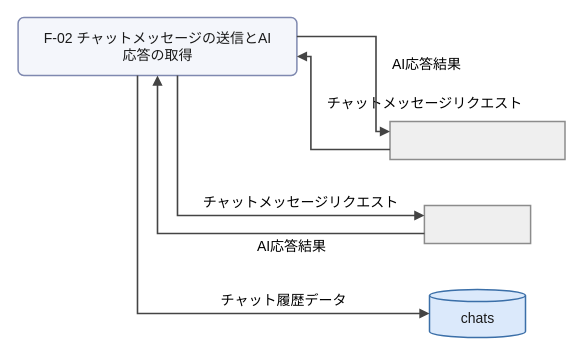
Image size: 583x356. Some labels were removed from this diagram. Here are the shapes that lost their labels. From the top down, the centre of each, then its label:
At point 477,140: "クライアントブラウザ".
At point 477,224: "AIサービス".
